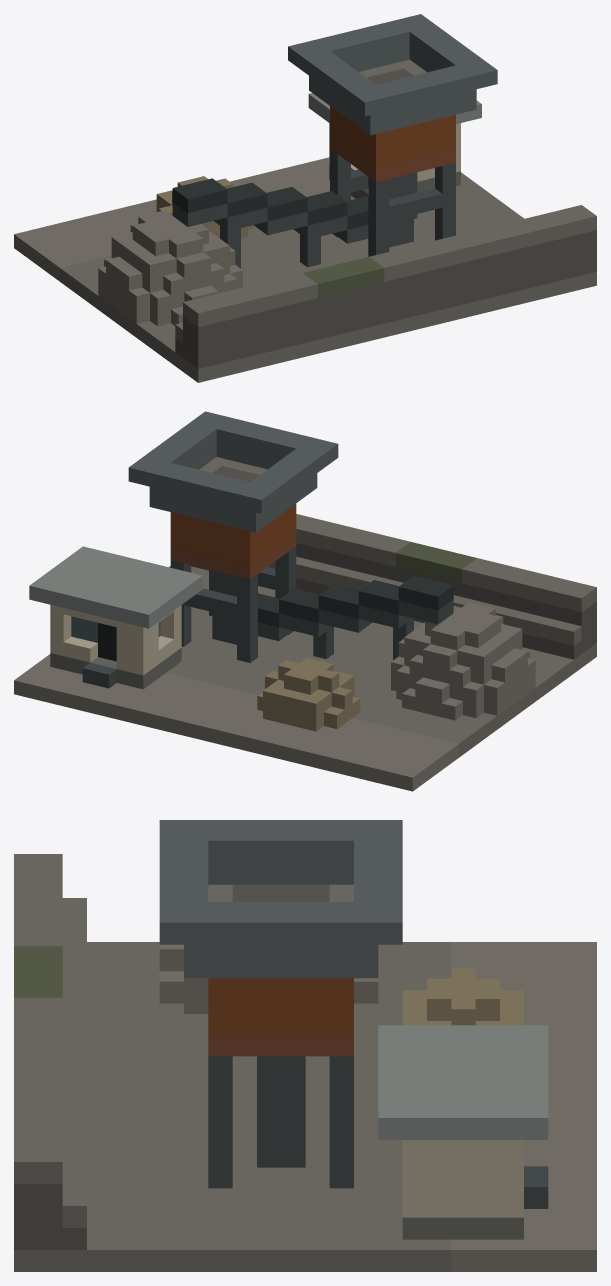
The model's file is Claude_quarry_structure.glb.
3 renders of one model, top to bottom at view 1: azimuth 30°, elevation 25°; view 2: azimuth 150°, elevation 25°; view 3: azimuth 270°, elevation 25°, orthographic. The views are drawn at different scales.
Visible parts, largest first — view 1: Claude_quarry_structure; view 2: Claude_quarry_structure; view 3: Claude_quarry_structure.
Part boxes in pixels (x1,y1,x2,y2): Claude_quarry_structure: (14,14,596,382); Claude_quarry_structure: (14,411,596,791); Claude_quarry_structure: (14,820,596,1271).
Size of the model in its own units: 15 by 7 by 12.
